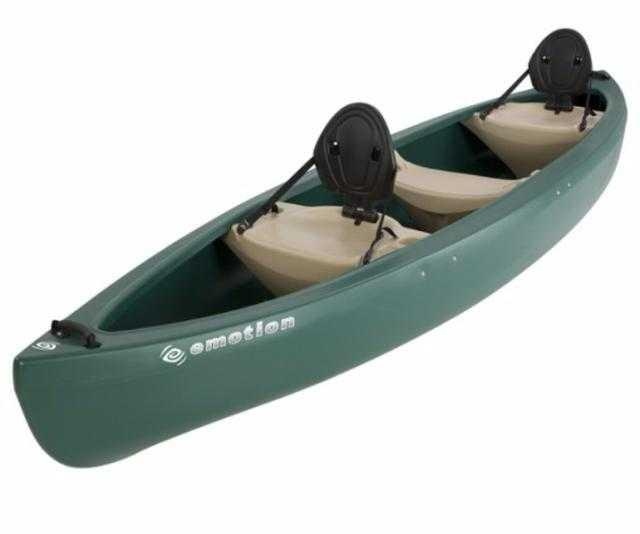kayak: (10, 50, 637, 488)
